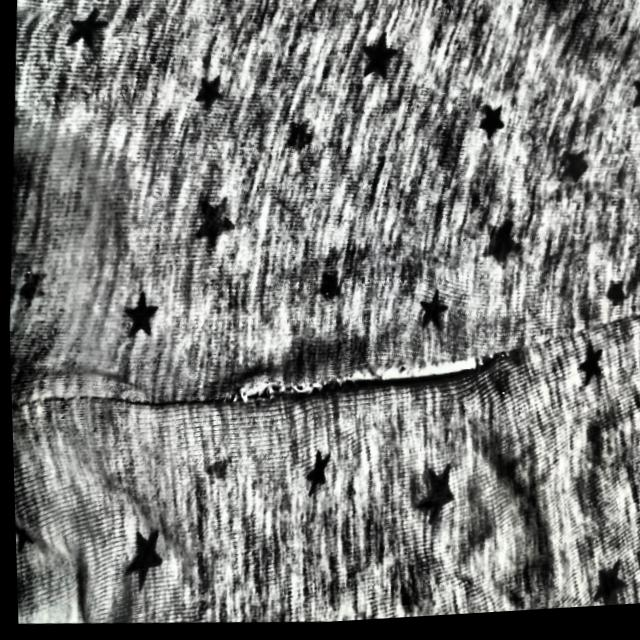Stitch: (232, 341, 501, 422)
